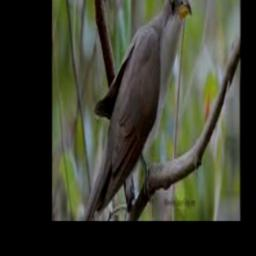Cuckoo: (83, 0, 191, 221)
